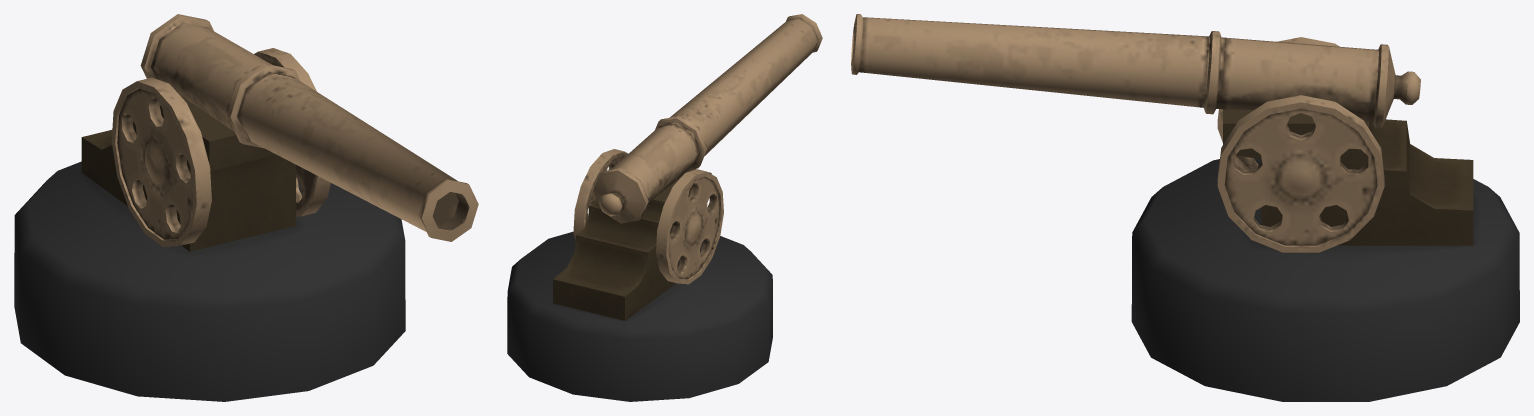
Rendered from SM_Souvenirs01D.FBX.
3 views of the same model, side by side, from view 1: azimuth 30°, elevation 25°; view 2: azimuth 150°, elevation 25°; view 3: azimuth 270°, elevation 25° (orthographic). The views are drawn at different scales.
Parts seen in each view (by area): view 1: SM_Souvenirs01D_LOD0; view 2: SM_Souvenirs01D_LOD0; view 3: SM_Souvenirs01D_LOD0.
Part boxes in pixels (x1,y1,x2,y2): SM_Souvenirs01D_LOD0: [14, 14, 478, 401]; SM_Souvenirs01D_LOD0: [507, 14, 822, 401]; SM_Souvenirs01D_LOD0: [851, 14, 1519, 401].
Size of the model in its own units: 9.78 by 17.29 by 8.75.
